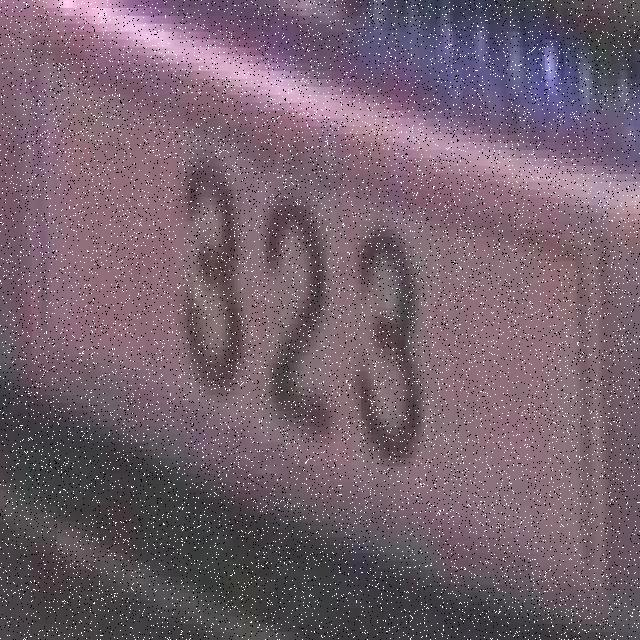licenseplate: (158, 101, 448, 473)
